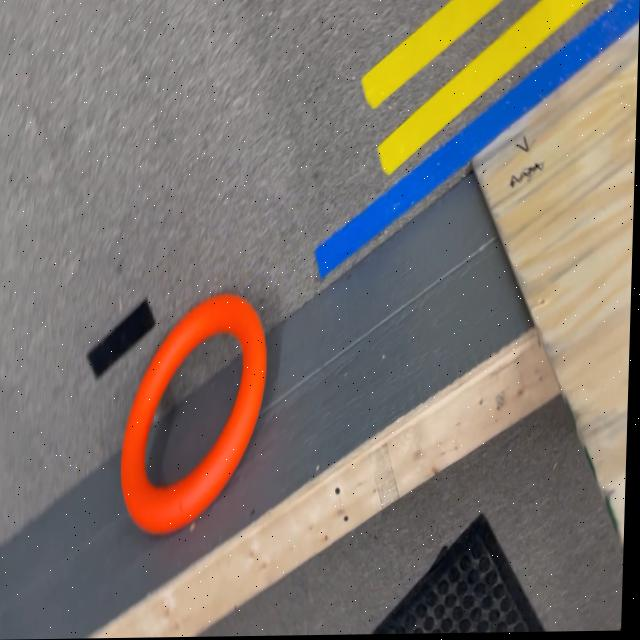note: (121, 294, 271, 537)
